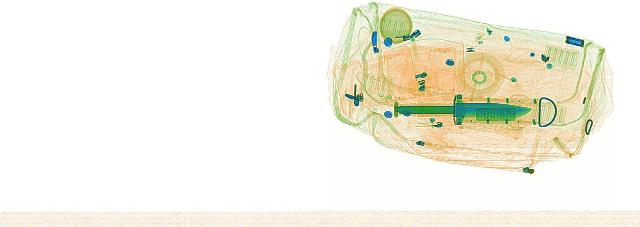Knife: (394, 102, 532, 117)
